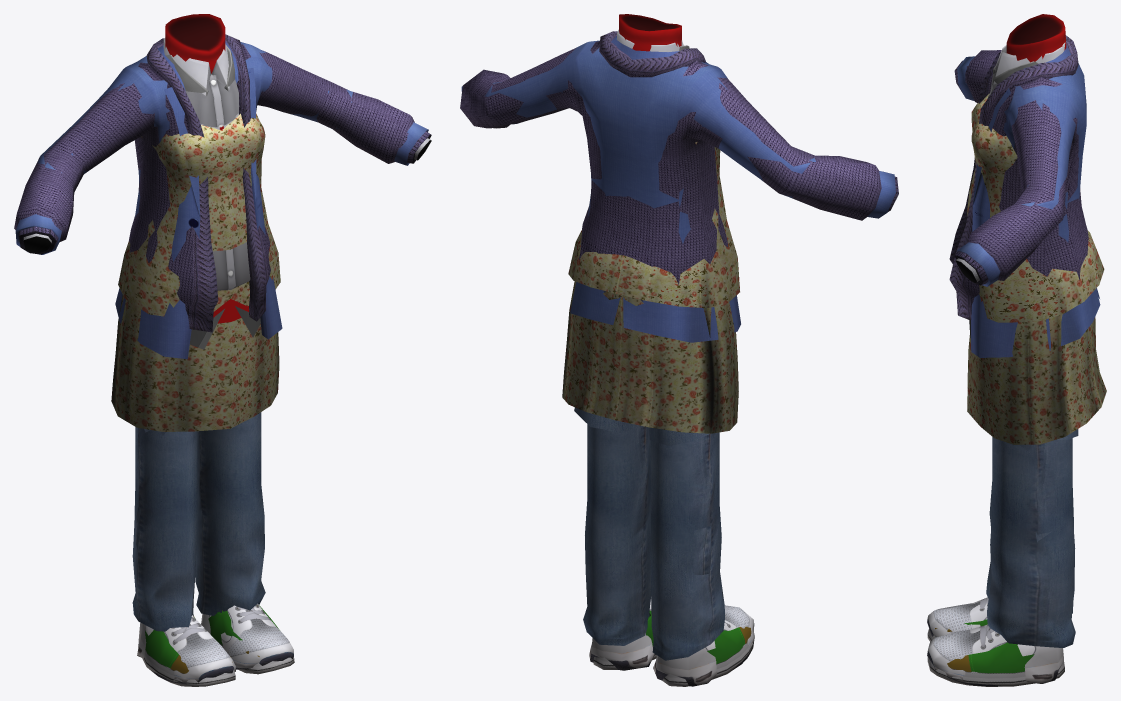
The model's file is Clothes.FBX.
The picture shows the model from 3 angles, left to right: view 1: azimuth 30°, elevation 25°; view 2: azimuth 150°, elevation 25°; view 3: azimuth 270°, elevation 25°; orthographic projection. The views are drawn at different scales.
Parts seen in each view (by area): view 1: TPSweater, TPLegsL, TPFDressL, TPSuit, TPFDressS, TPFeetB, TPShirtAL, TPFSkirt, TPTShirtB, TPFeetA, TPShirtBS; view 2: TPLegsL, TPSweater, TPSuit, TPFDressL, TPFDressS, TPFeetB, TPFeetA, TPTShirtB, TPLegsS, TPFLeggings; view 3: TPSweater, TPLegsL, TPFDressL, TPSuit, TPFDressS, TPFeetB, TPFeetA, TPTShirtB, TPFSkirt, TPShirtAL, TPShirtBS.
Boxes of the visible parts, x1,y1,x2,y2 form: TPSweater: (14,34,431,332); TPLegsL: (132,412,265,631); TPFDressL: (111,113,279,431); TPSuit: (15,41,428,359); TPFDressS: (118,114,280,316); TPFeetB: (137,603,293,683); TPShirtAL: (23,38,431,290); TPFSkirt: (121,302,271,430); TPTShirtB: (165,14,248,323); TPFeetA: (142,605,294,686); TPShirtBS: (165,45,260,349); TPLegsL: (583,424,724,660); TPSweater: (460,31,898,284); TPSuit: (461,36,895,342); TPFDressL: (562,147,738,433); TPFDressS: (568,141,739,307); TPFeetB: (589,597,754,686); TPFeetA: (593,610,754,686); TPTShirtB: (619,14,681,51); TPLegsS: (574,407,709,445); TPFLeggings: (603,290,715,574); TPSweater: (949,35,1088,320); TPLegsL: (986,437,1075,647); TPFDressL: (967,94,1106,444); TPSuit: (957,45,1100,357); TPFDressS: (967,94,1104,322); TPFeetB: (927,597,1063,686); TPFeetA: (927,619,1064,686); TPTShirtB: (1006,14,1066,62); TPFSkirt: (967,322,1034,422); TPShirtAL: (955,43,1065,282); TPShirtBS: (969,61,1037,338).
Bounding box in the file's own units: 96.33 × 138 × 35.61.
